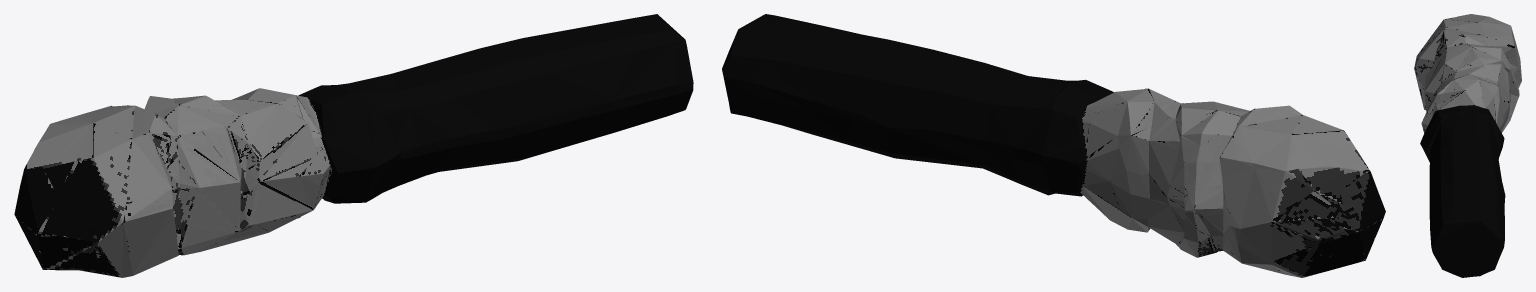
3 renders of one model, left to right at view 1: azimuth 30°, elevation 25°; view 2: azimuth 150°, elevation 25°; view 3: azimuth 270°, elevation 25°, orthographic. The views are drawn at different scales.
Parts seen in each view (by area): view 1: OBJ091; view 2: OBJ091; view 3: OBJ091.
Part boxes in pixels (x1,y1,x2,y2): OBJ091: [14, 14, 693, 277]; OBJ091: [722, 14, 1385, 277]; OBJ091: [1414, 14, 1521, 277].
Size of the model in its own units: 0.292 by 0.0648 by 0.0651.
1 material, 1 textured.
